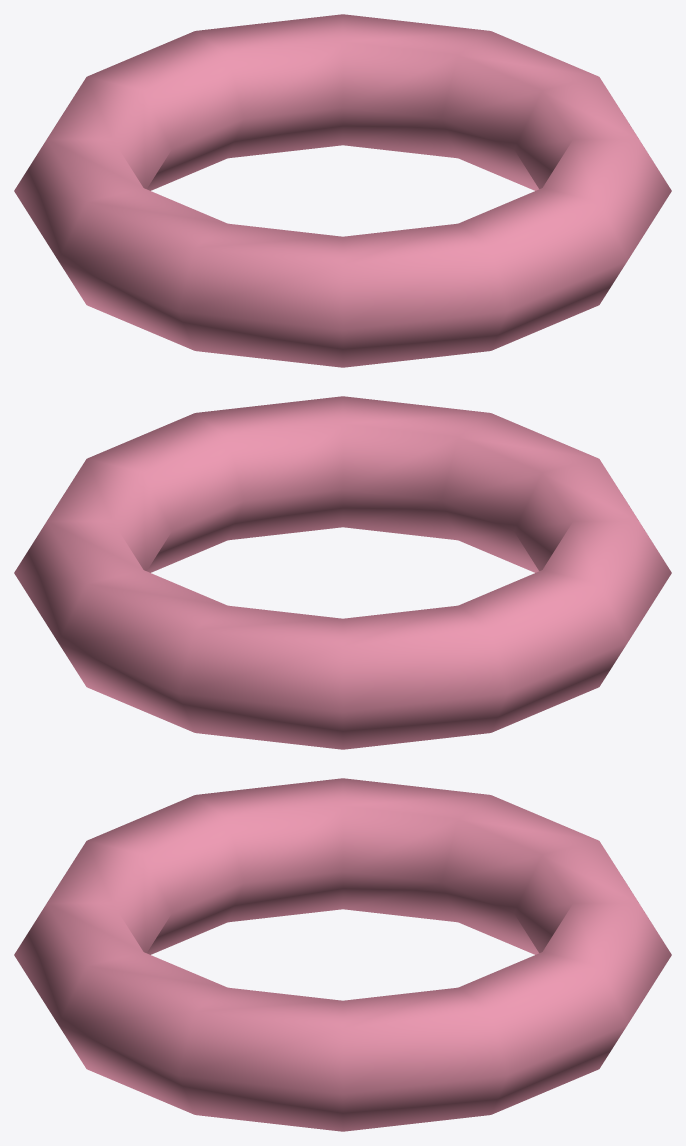
3 renders of one model, top to bottom at view 1: azimuth 30°, elevation 25°; view 2: azimuth 150°, elevation 25°; view 3: azimuth 270°, elevation 25°, orthographic.
Visible parts, largest first — view 1: OU_D_Torus_01_D; view 2: OU_D_Torus_01_D; view 3: OU_D_Torus_01_D.
Boxes of the visible parts, x1,y1,x2,y2 form: OU_D_Torus_01_D: (14, 14, 671, 367); OU_D_Torus_01_D: (14, 396, 671, 749); OU_D_Torus_01_D: (14, 778, 671, 1131).
Bounding box in the file's own units: 150 × 25.98 × 150.
